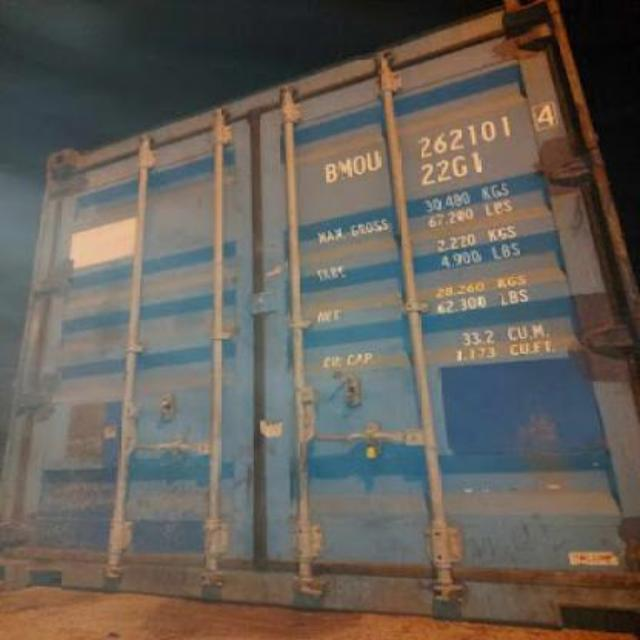0: (478, 118, 496, 144)
1: (496, 112, 516, 142), (462, 120, 480, 150)
2: (414, 130, 432, 160), (448, 126, 464, 150)
4: (532, 102, 558, 132)
6: (432, 129, 448, 159)
B: (322, 159, 336, 185)
M: (334, 157, 354, 183)
O: (352, 153, 368, 177)
U: (364, 148, 384, 176)
